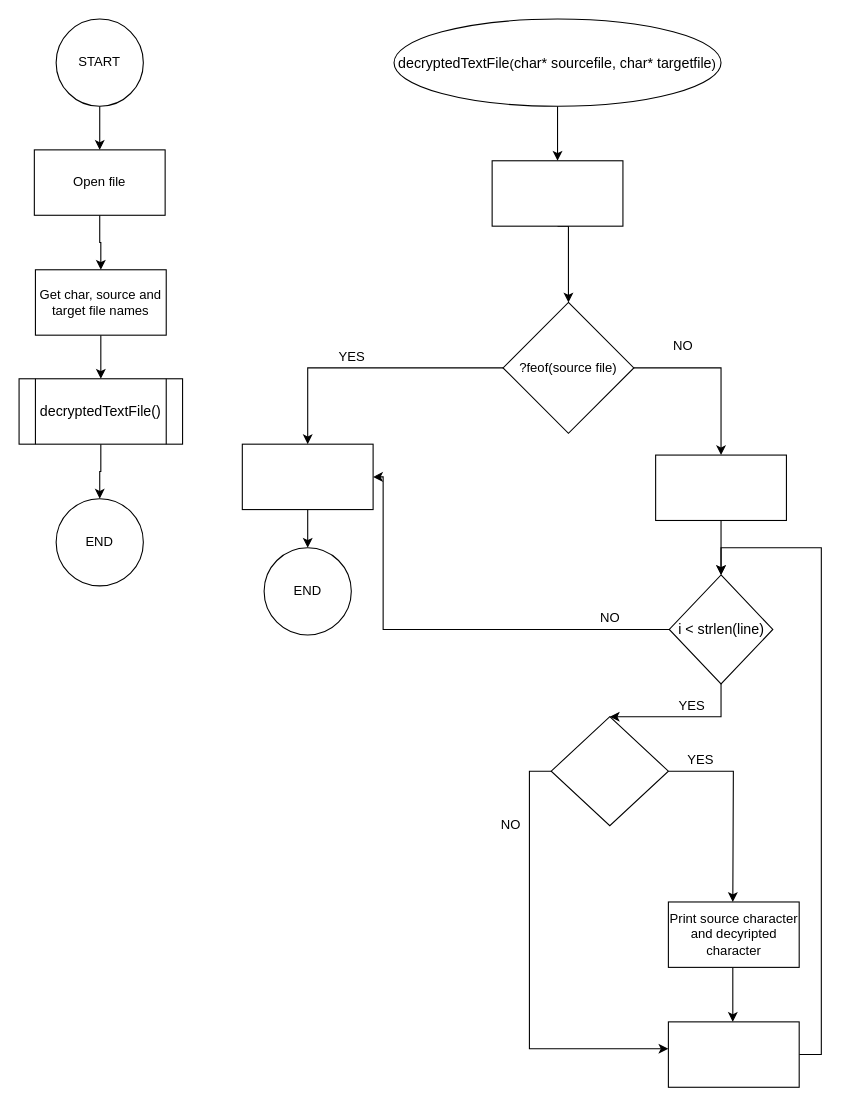
Image size: 849x1106. Some labels were removed from this diagram. The box of each missing label's shape, as (x1, y1, x2, y2) in pixels:
0<=line[i]<=256: (550, 716, 668, 826)
Close both file: (241, 443, 373, 510)
i++: (667, 1021, 799, 1087)
int i = 0: (655, 454, 786, 520)
open source file and target file: (491, 160, 623, 226)
